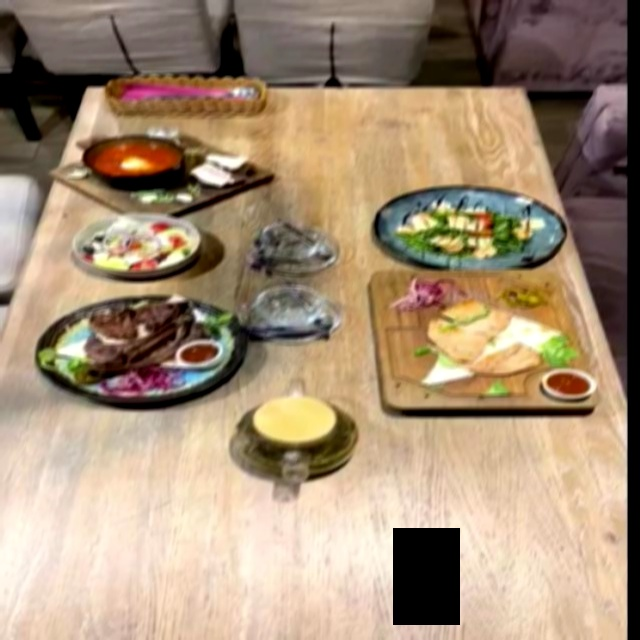meat: (356, 268, 597, 412), (34, 293, 250, 402)
salad: (374, 185, 566, 267), (70, 212, 201, 277)
soup: (73, 134, 252, 205)
tea: (230, 392, 359, 480)
